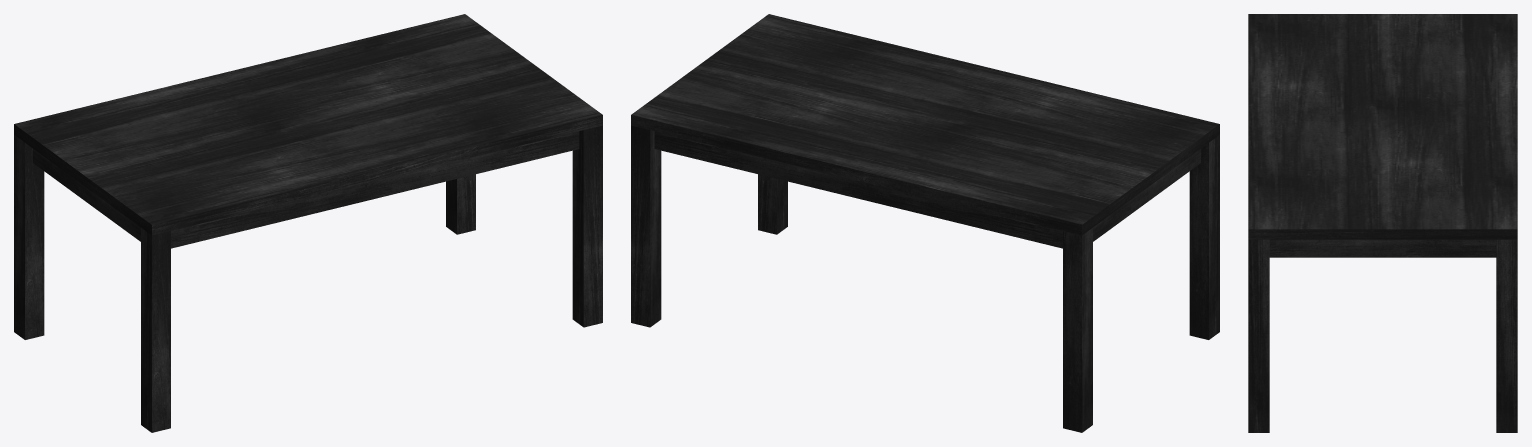
File: sweethome3d-scopia-black-table-25.glb
The picture shows the model from 3 angles, left to right: view 1: azimuth 30°, elevation 25°; view 2: azimuth 150°, elevation 25°; view 3: azimuth 270°, elevation 25°; orthographic projection. The views are drawn at different scales.
Visible parts, largest first — view 1: fusta_taula_wood_bump_fusta_taula_wood_bump_fusta_taula_wood; view 2: fusta_taula_wood_bump_fusta_taula_wood_bump_fusta_taula_wood; view 3: fusta_taula_wood_bump_fusta_taula_wood_bump_fusta_taula_wood.
Boxes of the visible parts, x1,y1,x2,y2 form: fusta_taula_wood_bump_fusta_taula_wood_bump_fusta_taula_wood: (14,14,602,432); fusta_taula_wood_bump_fusta_taula_wood_bump_fusta_taula_wood: (631,14,1219,432); fusta_taula_wood_bump_fusta_taula_wood_bump_fusta_taula_wood: (1248,14,1517,432).
Size of the model in its own units: 170 by 75 by 90.
1 material, 1 textured.
